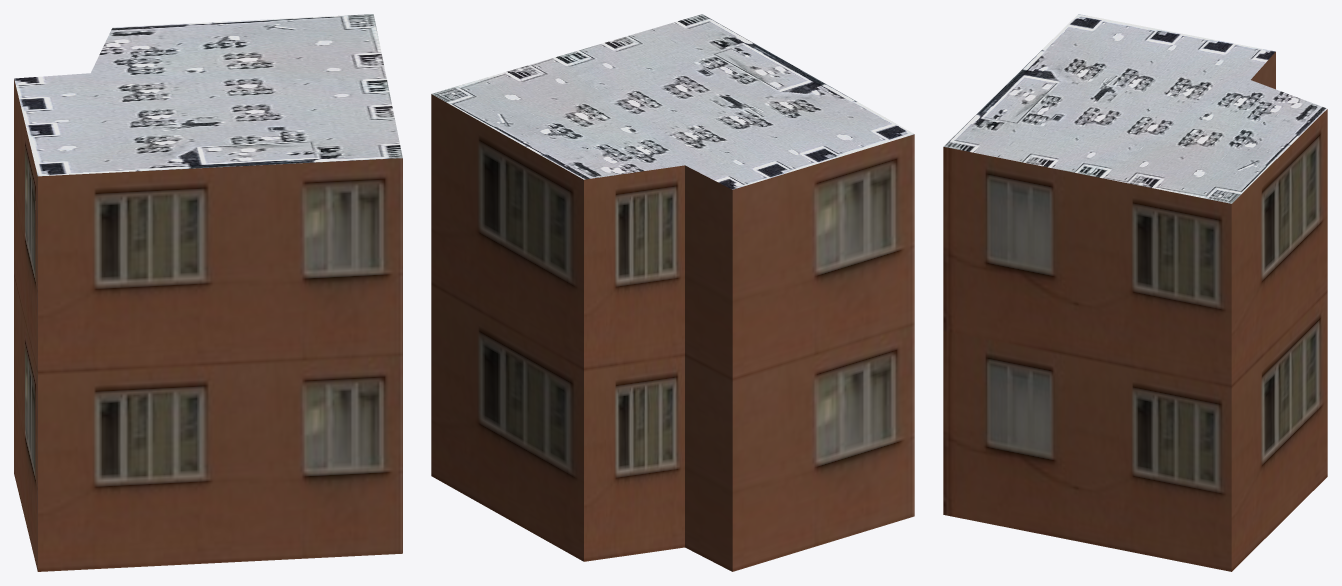
Rendered from ResTex__4577.fbx.
The picture shows the model from 3 angles, left to right: view 1: azimuth 30°, elevation 25°; view 2: azimuth 150°, elevation 25°; view 3: azimuth 270°, elevation 25°; orthographic projection. The views are drawn at different scales.
Visible parts, largest first — view 1: CityEngineMaterial_20_m, CityEngineMaterial_4_m; view 2: CityEngineMaterial_20_m, CityEngineMaterial_4_m; view 3: CityEngineMaterial_20_m, CityEngineMaterial_4_m.
Part boxes in pixels (x1,y1,x2,y2): CityEngineMaterial_20_m: [14, 79, 402, 571]; CityEngineMaterial_4_m: [14, 14, 402, 176]; CityEngineMaterial_20_m: [431, 94, 914, 571]; CityEngineMaterial_4_m: [431, 14, 914, 189]; CityEngineMaterial_20_m: [943, 52, 1327, 571]; CityEngineMaterial_4_m: [943, 14, 1327, 203].
Size of the model in its own units: 6.64 by 6 by 5.68.
Materials: 2 (2 with a texture image).
